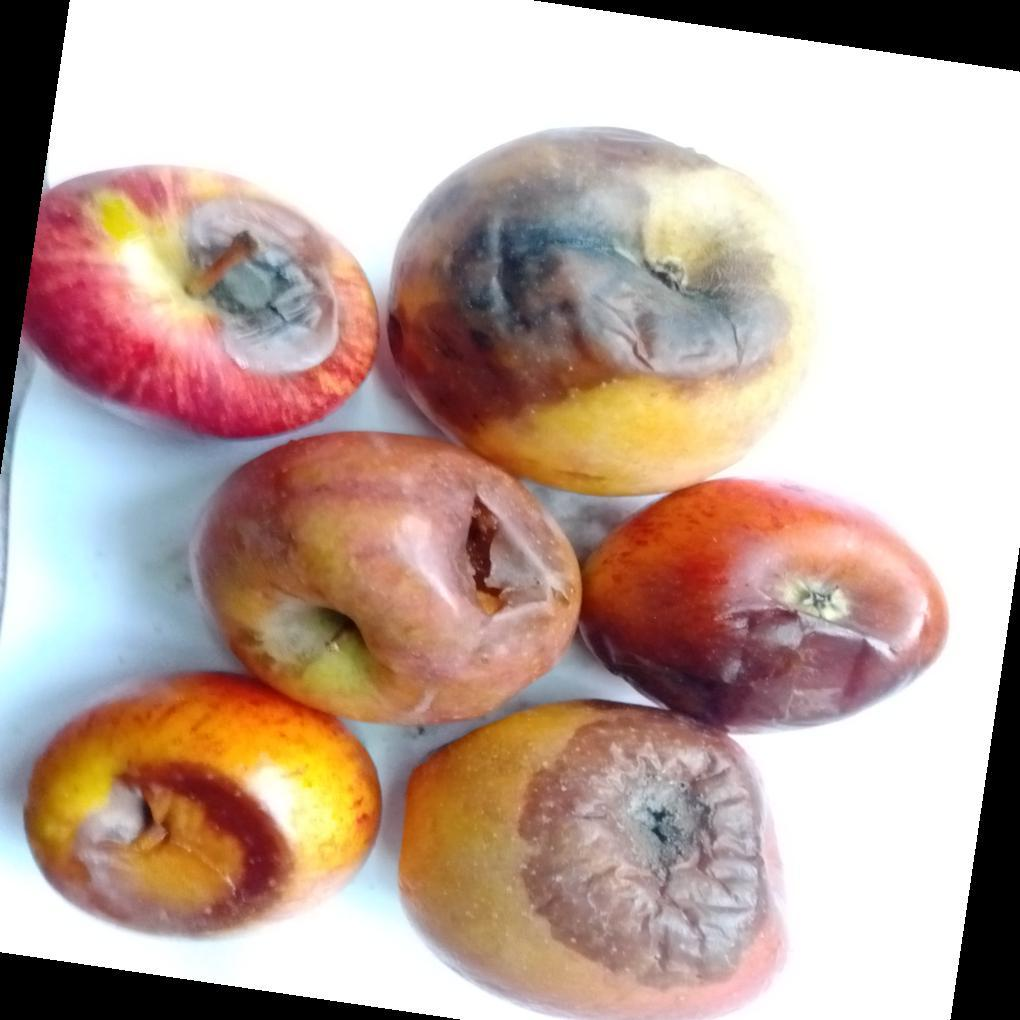FreshOrange: (4, 126, 950, 1020)
